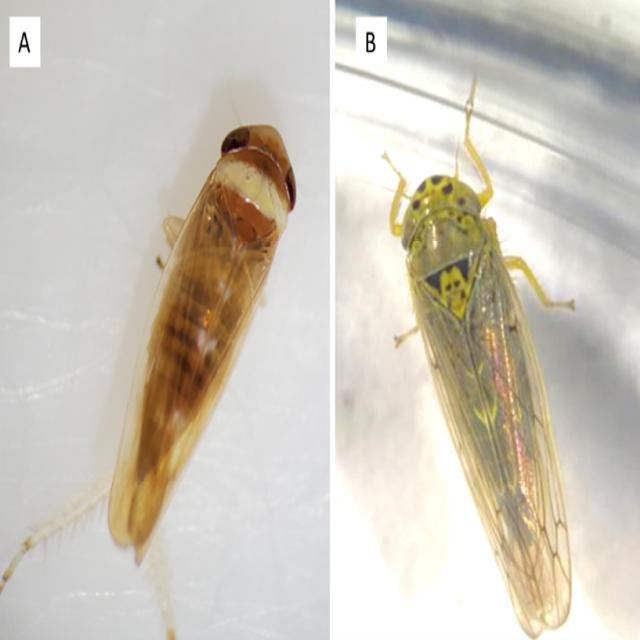Yechan: (370, 114, 579, 630), (110, 103, 300, 582)
